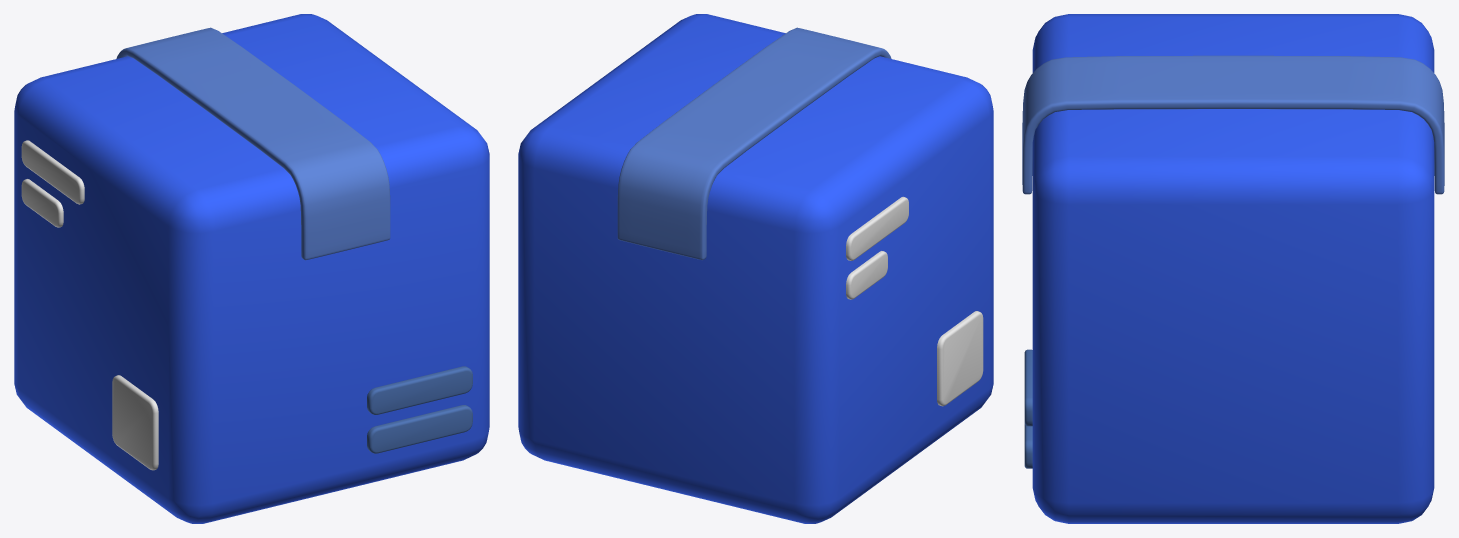
File: added-to-cart-animated-3d-icon-249198426064.glb
3 renders of one model, left to right at view 1: azimuth 30°, elevation 25°; view 2: azimuth 150°, elevation 25°; view 3: azimuth 270°, elevation 25°, orthographic. The views are drawn at different scales.
Visible parts, largest first — view 1: Cube.002, Cube.003, Cube.006, Cube.008, Cube.009, Cube.004, Cube.005; view 2: Cube.002, Cube.003, Cube.006, Cube.004, Cube.005; view 3: Cube.002, Cube.003, Cube.008.
Boxes of the visible parts, x1,y1,x2,y2 form: Cube.002: (14,14,489,523); Cube.003: (116,27,390,260); Cube.006: (112,375,158,470); Cube.008: (367,366,472,414); Cube.009: (367,405,472,453); Cube.004: (21,140,84,204); Cube.005: (21,179,63,227); Cube.002: (518,14,993,523); Cube.003: (617,27,891,260); Cube.006: (937,311,983,406); Cube.004: (846,196,908,260); Cube.005: (846,251,887,299); Cube.002: (1032,14,1434,523); Cube.003: (1022,55,1444,194); Cube.008: (1024,349,1032,426).
Size of what is drawn, in the model's own units: 2.03 by 2.05 by 2.1.
